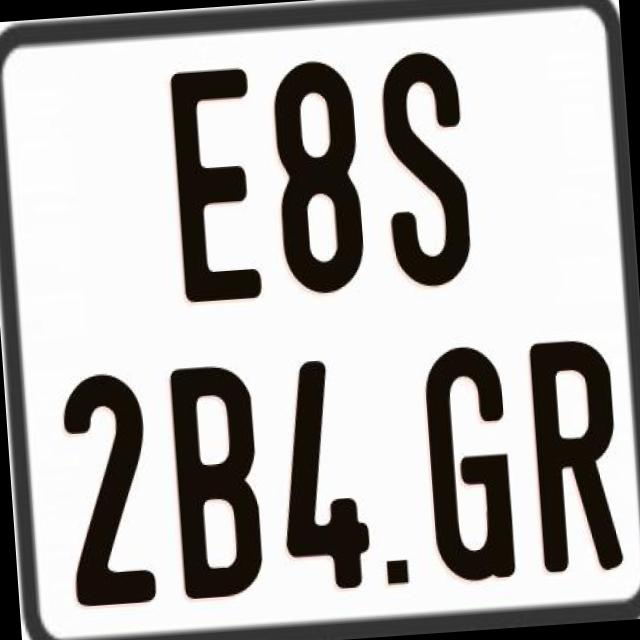2: (60, 371, 158, 613)
4: (272, 354, 371, 594)
8: (268, 56, 365, 302)
B: (167, 359, 262, 601)
E: (169, 65, 268, 304)
G: (420, 343, 514, 586)
R: (524, 336, 620, 578)
S: (378, 46, 472, 292)
